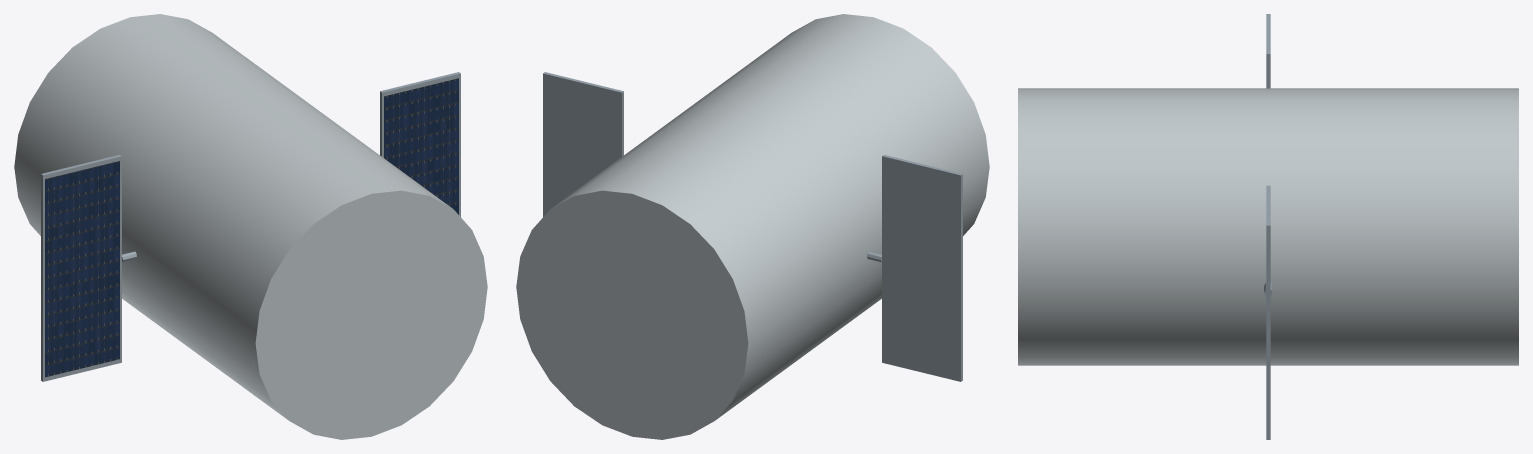
The model's file is ref-genesis-1-29252.glb.
The picture shows the model from 3 angles, left to right: view 1: azimuth 30°, elevation 25°; view 2: azimuth 150°, elevation 25°; view 3: azimuth 270°, elevation 25°; orthographic projection. The views are drawn at different scales.
Visible parts, largest first — view 1: Spacecraft body, Photovoltaic laminates (×2), Array frame (×2); view 2: Spacecraft body, Array frame (×2); view 3: Spacecraft body, Array frame.
Boxes of the visible parts, <box> form: Spacecraft body: <box>14,14,487,439</box>; Photovoltaic laminates (×2): <box>45,78,458,377</box>; Array frame (×2): <box>41,72,460,381</box>; Spacecraft body: <box>516,14,989,439</box>; Array frame (×2): <box>543,72,962,381</box>; Spacecraft body: <box>1018,88,1518,365</box>; Array frame: <box>1266,185,1270,439</box>.
Bounding box in the file's own units: 4.5 × 2.5 × 4.5.
Materials: 3 (1 with a texture image).
